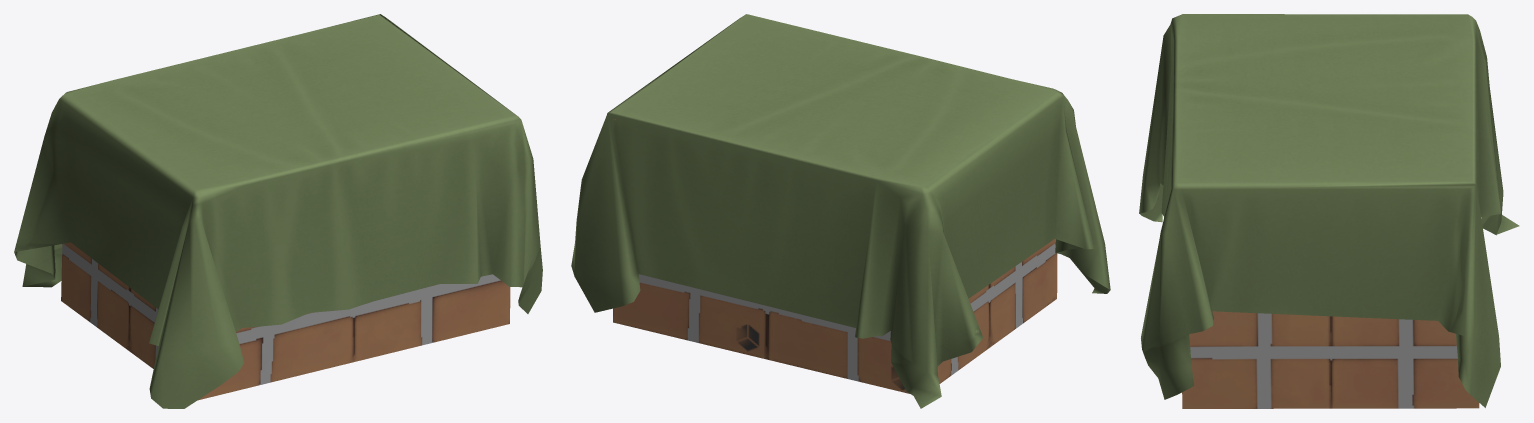
File: Pfb_Box_GRP__12.fbx
3 renders of one model, left to right at view 1: azimuth 30°, elevation 25°; view 2: azimuth 150°, elevation 25°; view 3: azimuth 270°, elevation 25°, orthographic. The views are drawn at different scales.
Parts seen in each view (by area): view 1: MAT_Canvas_01, Mat_BoxGroup_01_Gray; view 2: MAT_Canvas_01, Mat_BoxGroup_01_Gray; view 3: MAT_Canvas_01, Mat_BoxGroup_01_Gray.
Part boxes in pixels (bbox=[...]): MAT_Canvas_01: bbox=[14, 14, 542, 408]; Mat_BoxGroup_01_Gray: bbox=[61, 193, 510, 400]; MAT_Canvas_01: bbox=[571, 14, 1110, 408]; Mat_BoxGroup_01_Gray: bbox=[613, 91, 1058, 393]; MAT_Canvas_01: bbox=[1139, 14, 1519, 407]; Mat_BoxGroup_01_Gray: bbox=[1176, 16, 1479, 408].
Size of the model in its own units: 2.45 by 1.19 by 1.79.
2 materials, 2 textured.
